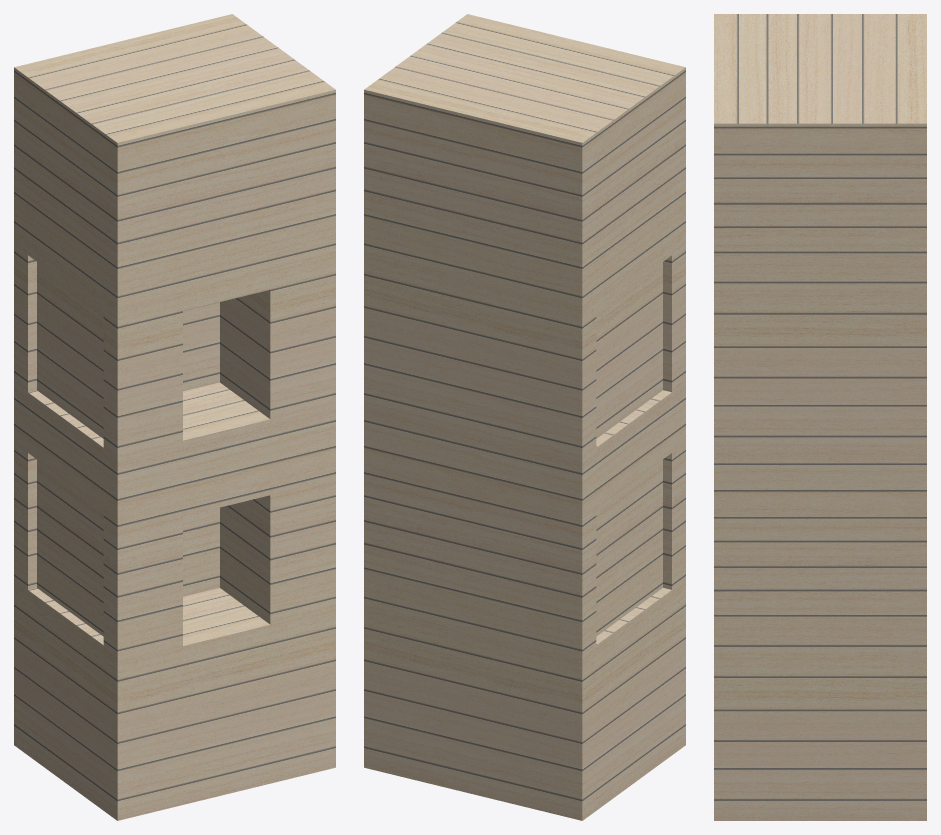
Rendered from Gallery_Pillar01.FBX.
3 renders of one model, left to right at view 1: azimuth 30°, elevation 25°; view 2: azimuth 150°, elevation 25°; view 3: azimuth 270°, elevation 25°, orthographic. The views are drawn at different scales.
Parts seen in each view (by area): view 1: Gallery_Pillar01; view 2: Gallery_Pillar01; view 3: Gallery_Pillar01.
Boxes of the visible parts, <box> form: Gallery_Pillar01: <box>14,14,335,820</box>; Gallery_Pillar01: <box>364,14,685,820</box>; Gallery_Pillar01: <box>714,14,926,820</box>.
Bounding box in the file's own units: 59.06 × 48.43 × 175.
